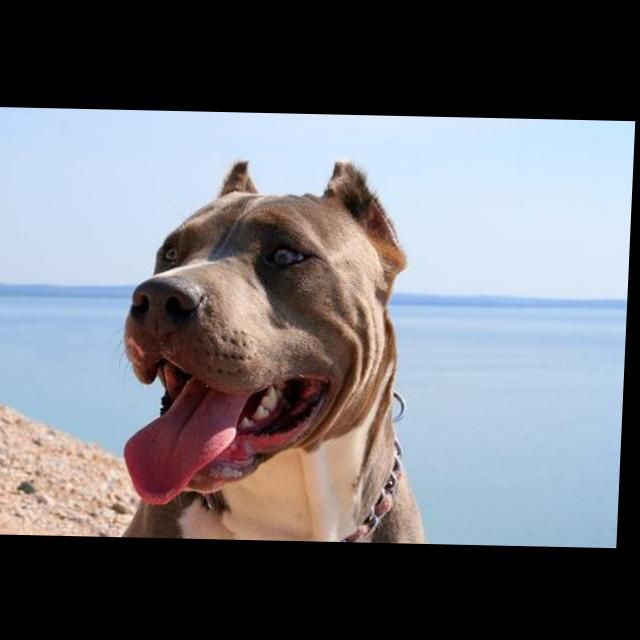amstaff: (115, 152, 451, 542)
